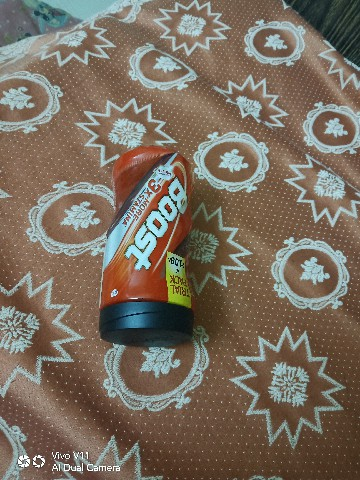boost small: (88, 121, 204, 360)
